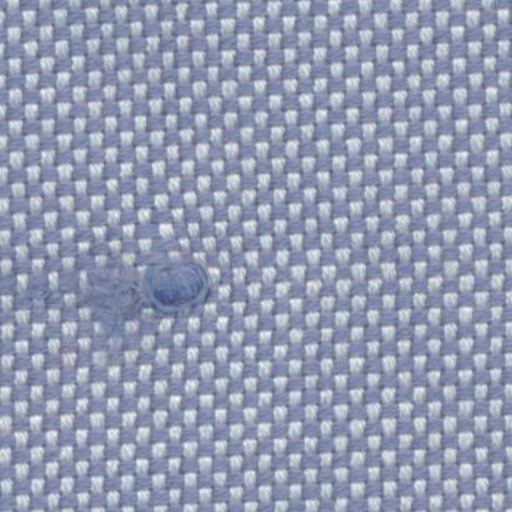MianQiu: (53, 212, 237, 366)
